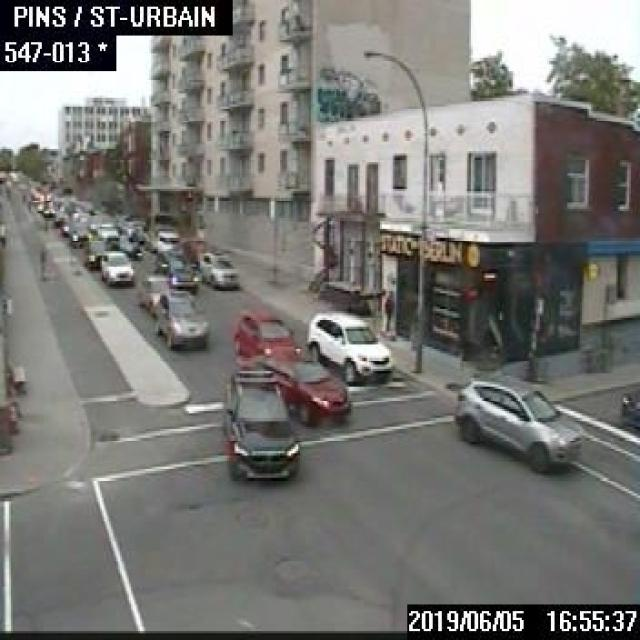pedestrian: (382, 289, 394, 329)
vehicle: (448, 371, 586, 473), (232, 352, 348, 426), (224, 368, 299, 480), (304, 312, 392, 384), (231, 310, 300, 358), (152, 290, 208, 346), (152, 248, 197, 290), (136, 272, 174, 314), (142, 210, 178, 252), (199, 250, 236, 288), (99, 248, 133, 285), (82, 236, 110, 268), (618, 387, 638, 431), (68, 221, 91, 246), (84, 213, 104, 232), (96, 221, 116, 239), (60, 218, 80, 234)
